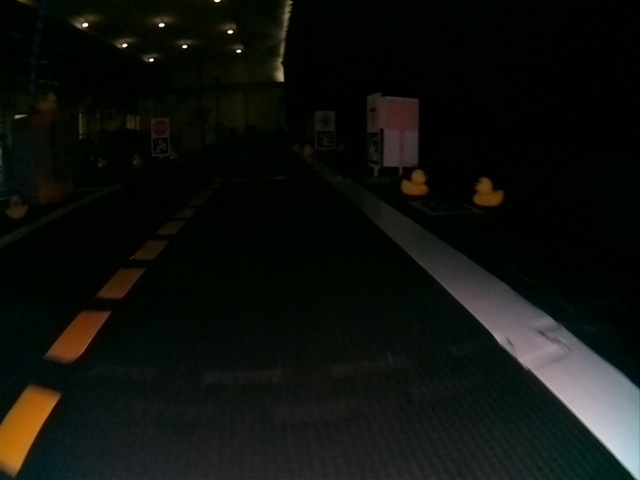Duckie: (474, 178, 503, 207), (401, 170, 427, 194), (5, 196, 27, 218), (37, 93, 57, 112)
Intersection sign: (317, 113, 335, 130)
QR code: (367, 131, 382, 167), (151, 140, 170, 155)
Stop sign: (151, 119, 169, 135)
